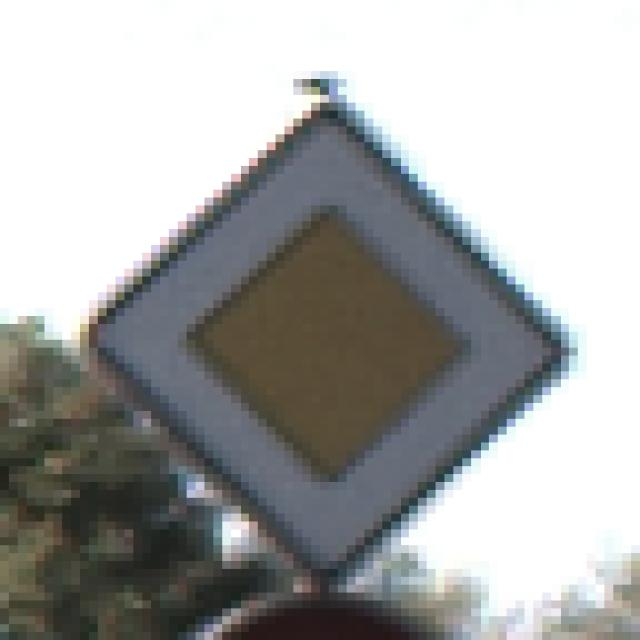Main Road: (54, 64, 579, 578)
